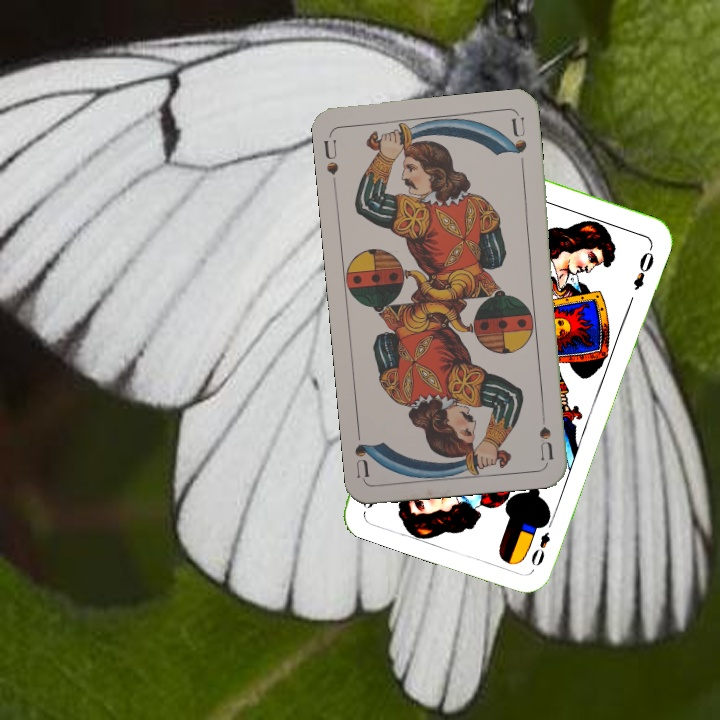EO: (527, 513, 557, 569)
SU: (319, 136, 341, 177), (535, 422, 556, 462)
